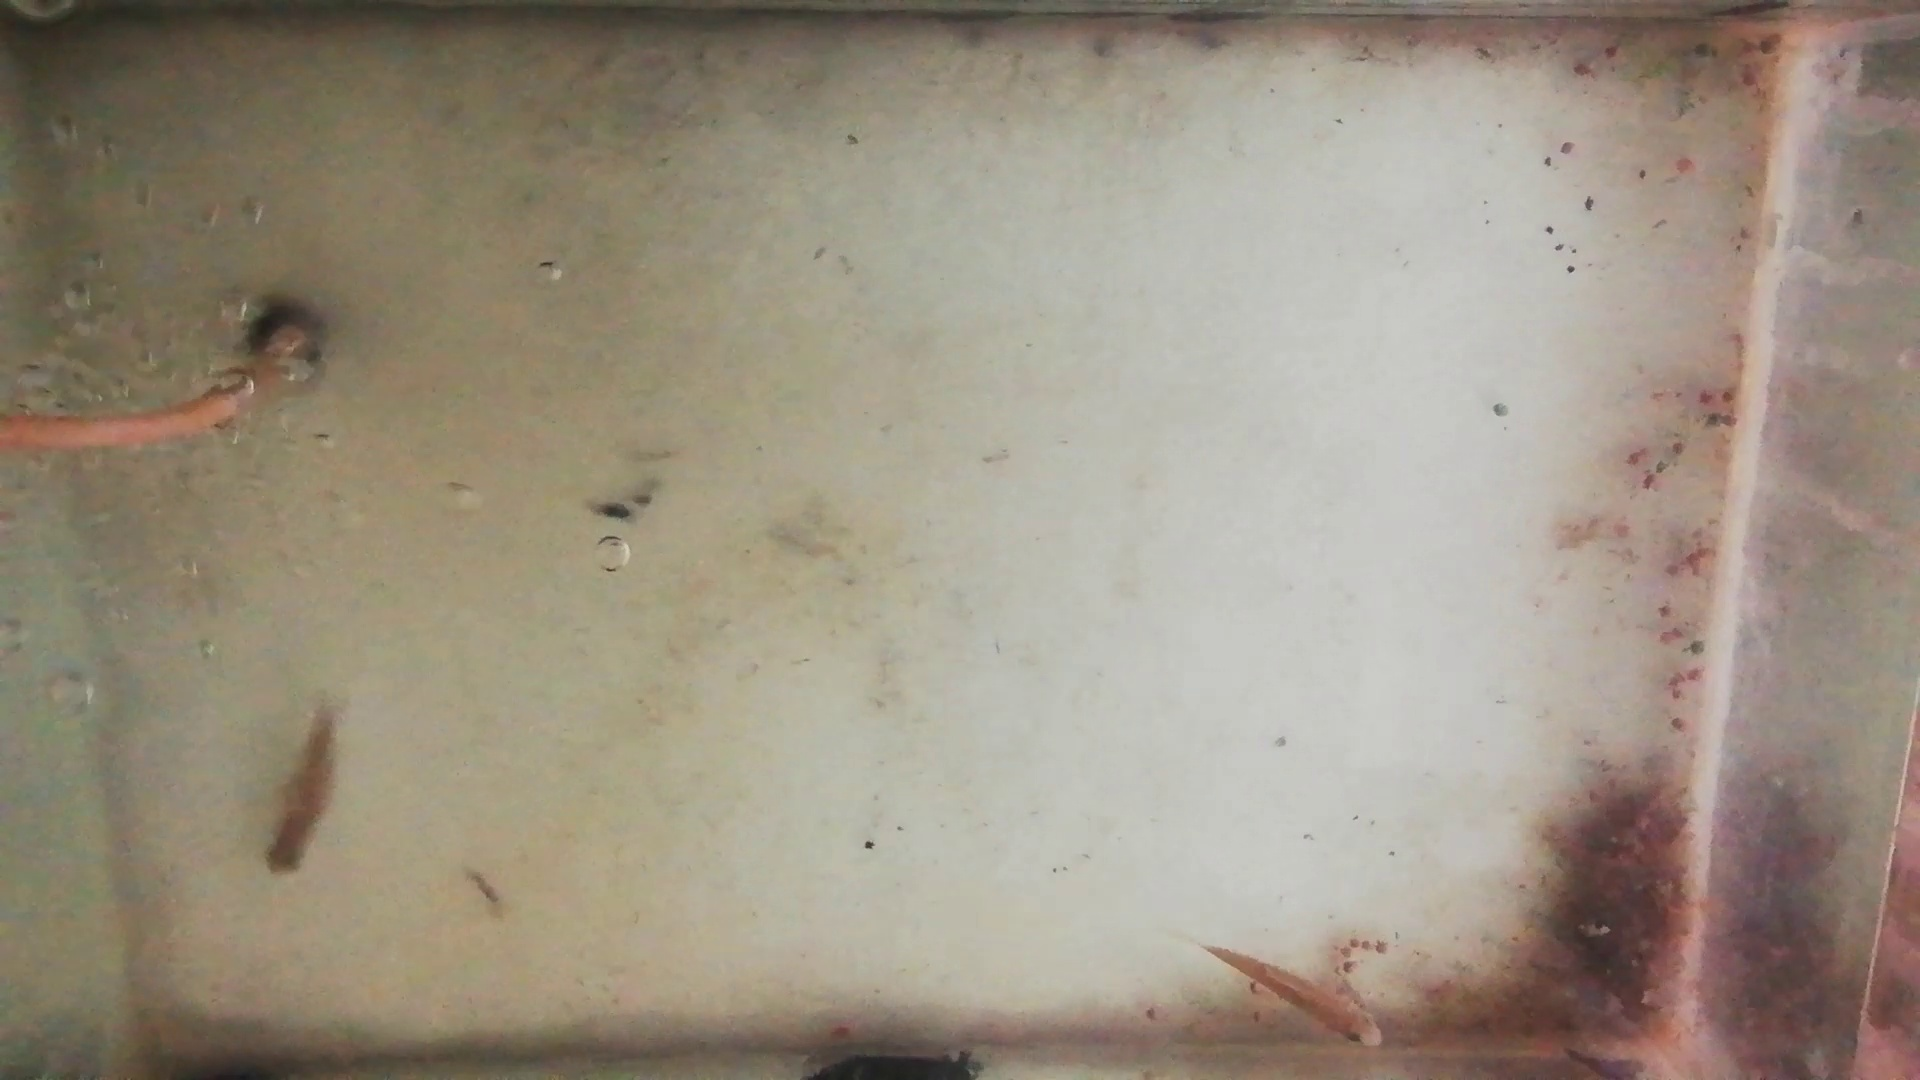fish: (1203, 945, 1385, 1046), (264, 698, 345, 876)
